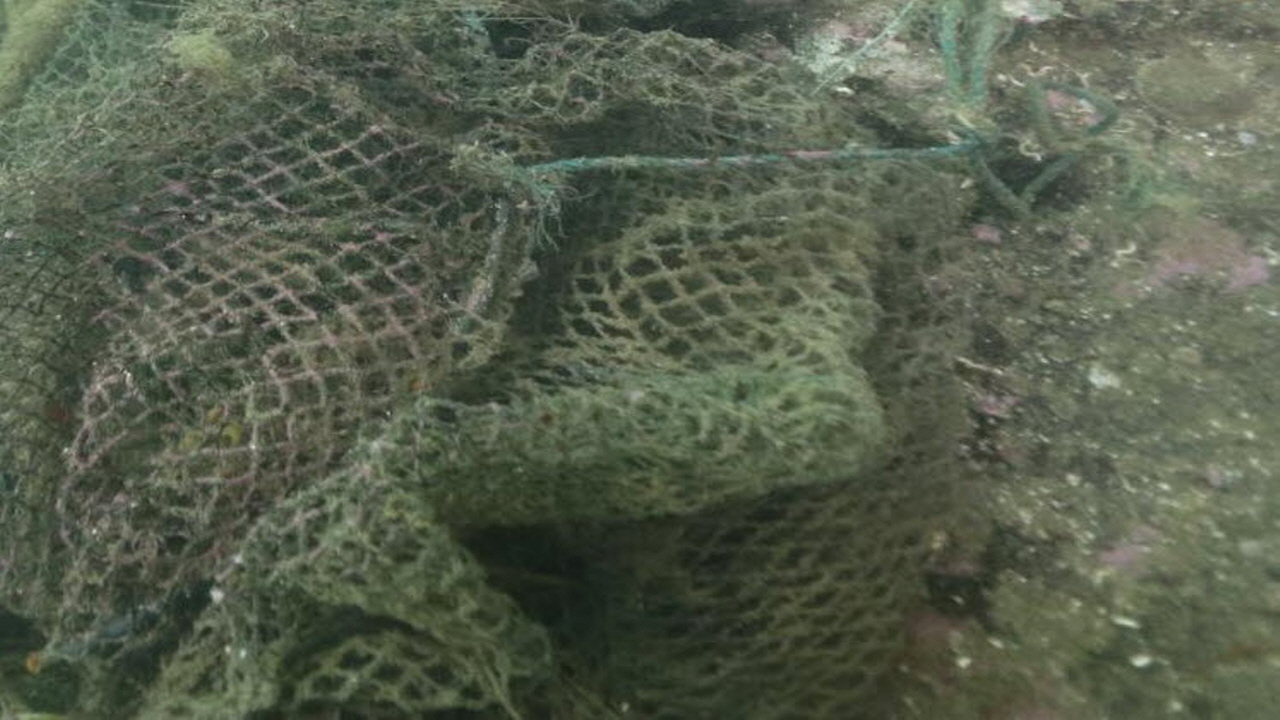fish net: (0, 0, 979, 720)
